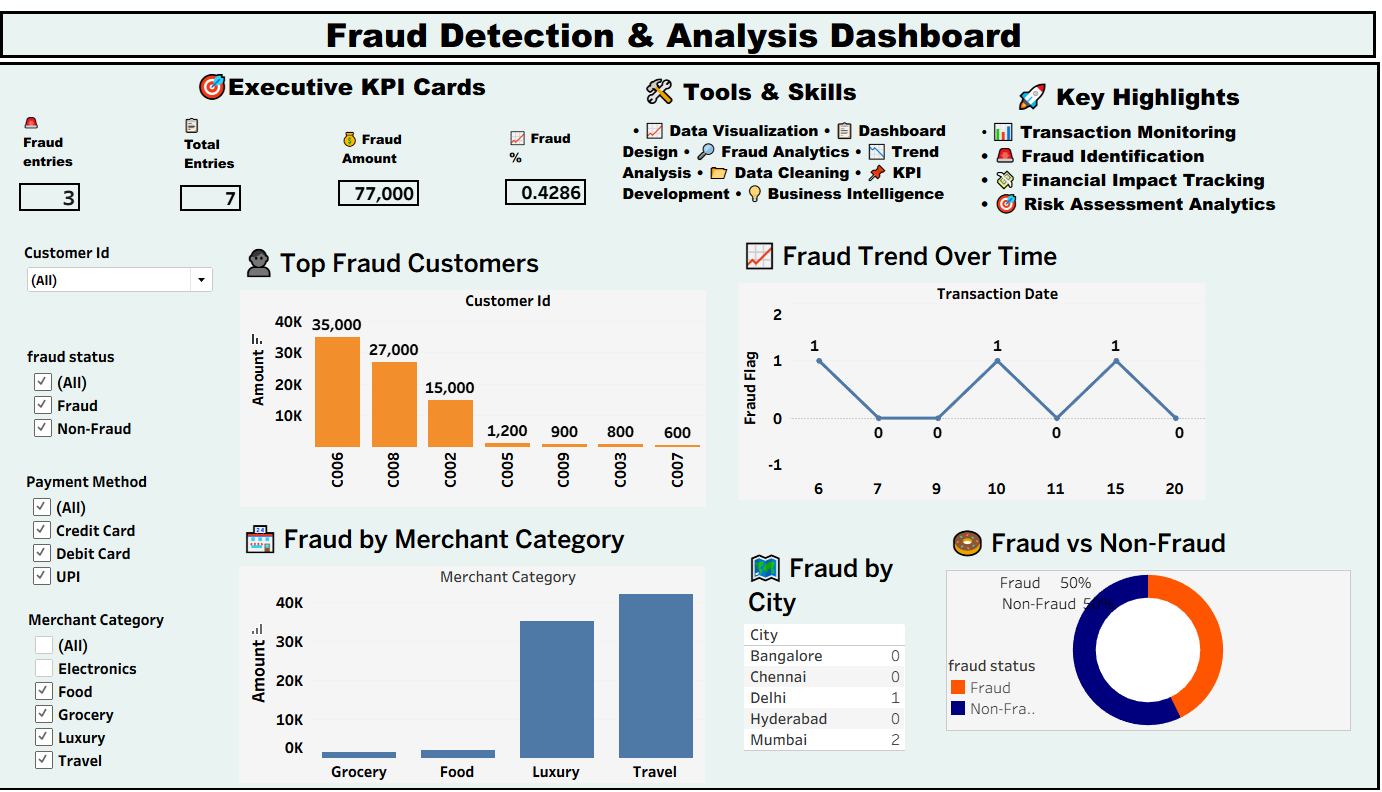

The page's visual inventory and layout, read from the dashboard file:
{"tool":"tableau","page":{"name":"Dashboard 1","canvas":[1400,800],"ordinal":0},"visuals":[{"type":"title","box":[8,8,1384,55]},{"type":"text","box":[205,71,331,33]},{"type":"text","box":[652,77,228,30]},{"type":"text","box":[1025,81,231,33]},{"type":"text","box":[631,107,359,115]},{"type":"worksheet","title":"Sheet 6","mark":"Automatic","box":[30,111,149,108]},{"type":"worksheet","title":"Sheet 7","mark":"Automatic","box":[191,113,148,104]},{"type":"text","box":[989,114,374,109]},{"type":"worksheet","title":"Sheet 9","mark":"Automatic","box":[516,126,111,89]},{"type":"worksheet","title":"Sheet 8","mark":"Automatic","box":[349,127,162,90]},{"type":"worksheet","title":"Sheet 1","mark":"Line","rows":["fraud_flag"],"cols":["transaction_date"],"box":[751,235,466,266]},{"type":"worksheet","title":"Sheet 5","mark":"Bar","rows":["amount"],"cols":["customer_id"],"box":[252,242,466,266]},{"type":"filter","title":"Sheet 1","param":"[federated.12u4tqp1wps3pt1ddl1921fnfi5d].[none:customer_id:nk]","box":[36,243,192,97]},{"type":"filter","title":"Sheet 1","param":"[federated.12u4tqp1wps3pt1ddl1921fnfi5d].[none:Calculation_0756210154778629:nk]","box":[39,347,190,111]},{"type":"filter","title":"Sheet 1","param":"[federated.12u4tqp1wps3pt1ddl1921fnfi5d].[none:payment_method:nk]","box":[38,472,190,129]},{"type":"worksheet","title":"Sheet 2","mark":"Automatic","rows":["amount"],"cols":["merchant_category"],"box":[251,518,466,266]},{"type":"worksheet","title":"Sheet 10","mark":"Pie","cols":["Calculation_0756210155089926","Calculation_0756210155089926"],"box":[958,522,405,231]},{"type":"worksheet","title":"Sheet 4","mark":"Automatic","rows":["city"],"box":[756,547,196,211]},{"type":"filter","title":"Sheet 1","param":"[federated.12u4tqp1wps3pt1ddl1921fnfi5d].[none:merchant_category:nk]","box":[40,610,187,166]},{"type":"legend","title":"Sheet 10","param":"[federated.12u4tqp1wps3pt1ddl1921fnfi5d].[none:Calculation_0756210154778629:nk]","box":[960,656,100,64]}]}

Visuals, with their boxes in screenshot pixels (x1, y1, x2, y2), scaled from the page's 1400x800 canvas onto the 1382x792 screenshot:
title: x1=8, y1=8, x2=1374, y2=62
text: x1=202, y1=70, x2=529, y2=103
text: x1=644, y1=76, x2=869, y2=106
text: x1=1012, y1=80, x2=1240, y2=113
text: x1=623, y1=106, x2=977, y2=220
"Sheet 6" worksheet: x1=30, y1=110, x2=177, y2=217
"Sheet 7" worksheet: x1=189, y1=112, x2=335, y2=215
text: x1=976, y1=113, x2=1345, y2=221
"Sheet 9" worksheet: x1=509, y1=125, x2=619, y2=213
"Sheet 8" worksheet: x1=345, y1=126, x2=504, y2=215
"Sheet 1" worksheet (Line marks): x1=741, y1=233, x2=1201, y2=496
"Sheet 5" worksheet (Bar marks): x1=249, y1=240, x2=709, y2=503
"Sheet 1" filter: x1=36, y1=241, x2=225, y2=337
"Sheet 1" filter: x1=38, y1=344, x2=226, y2=453
"Sheet 1" filter: x1=38, y1=467, x2=225, y2=595
"Sheet 2" worksheet: x1=248, y1=513, x2=708, y2=776
"Sheet 10" worksheet (Pie marks): x1=946, y1=517, x2=1345, y2=745
"Sheet 4" worksheet: x1=746, y1=542, x2=940, y2=750
"Sheet 1" filter: x1=39, y1=604, x2=224, y2=768
"Sheet 10" legend: x1=948, y1=649, x2=1046, y2=713
